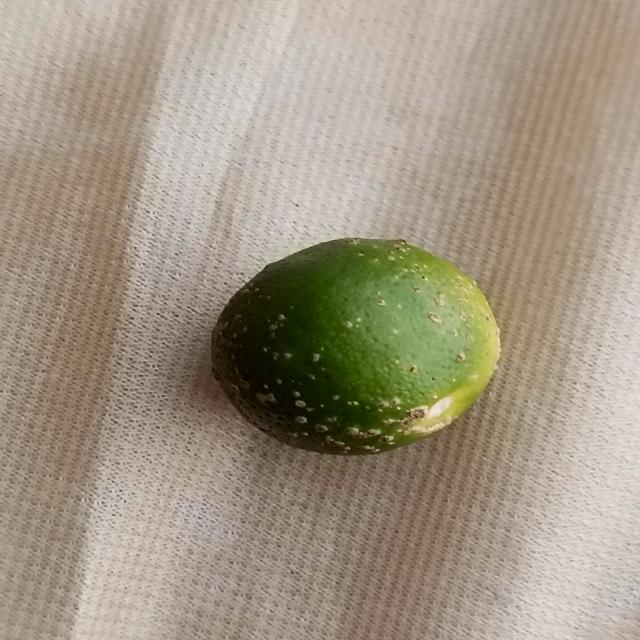scab: (200, 227, 506, 460)
